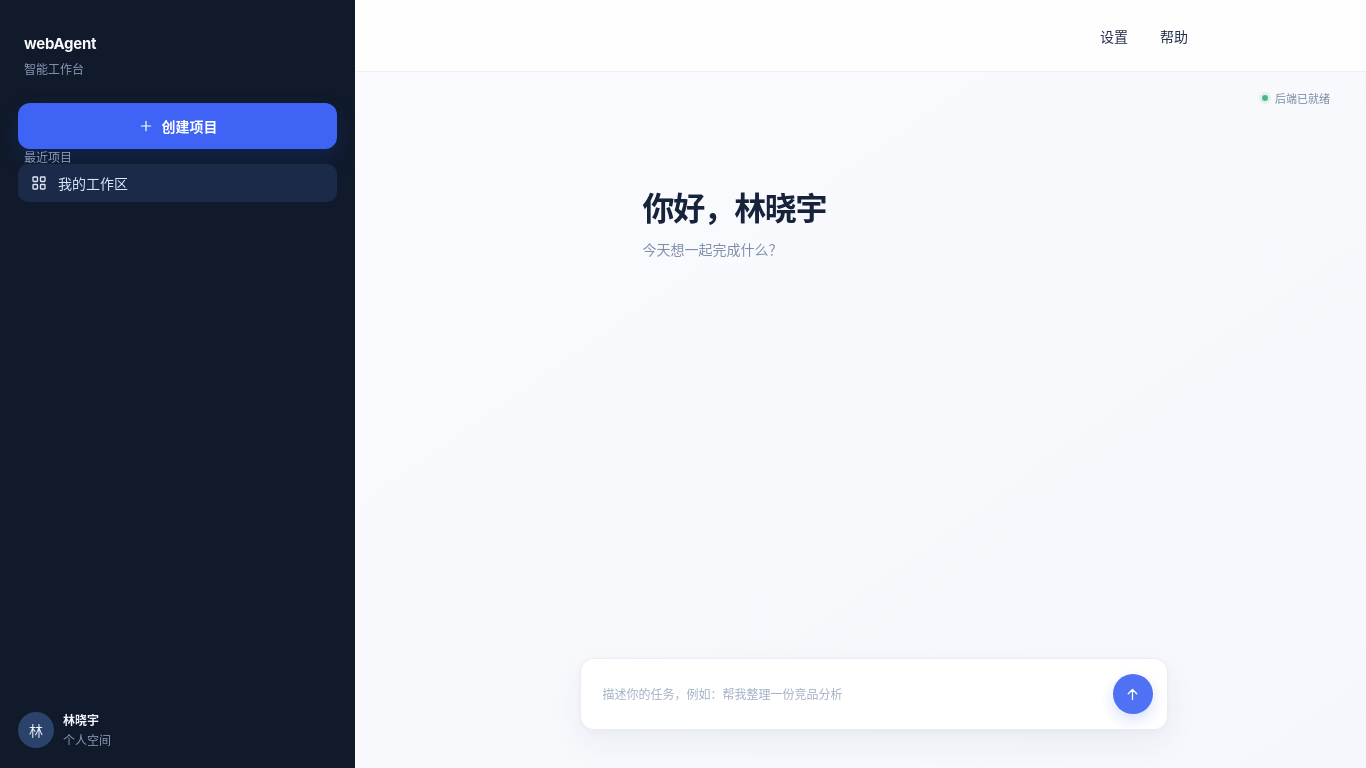
Test: 账户设置 › 保存请求未进入网络层时显示底层错误
Click the button with aria-label "打开账户设置". click: (36, 730)
box: [18,703,337,748]
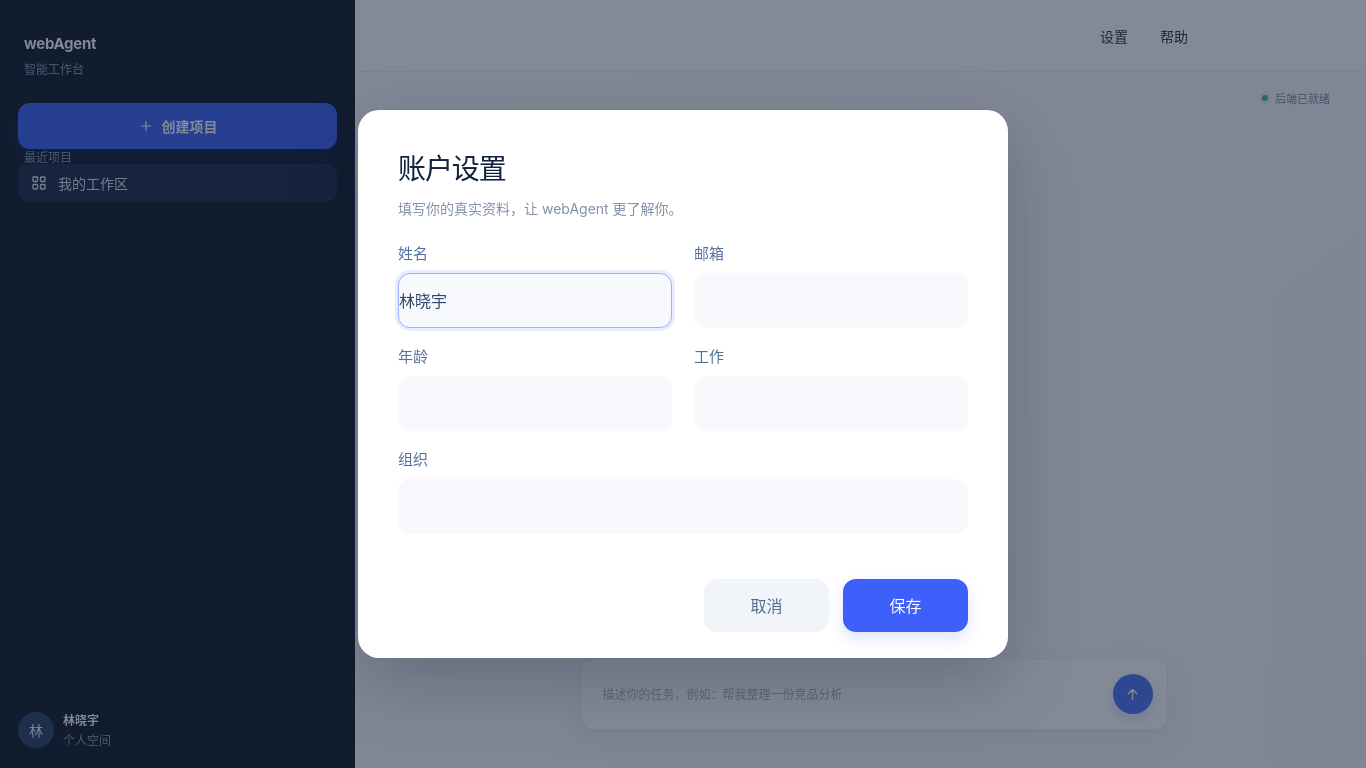
Click the button "保存". click: (906, 605)
box: [843,579,968,632]
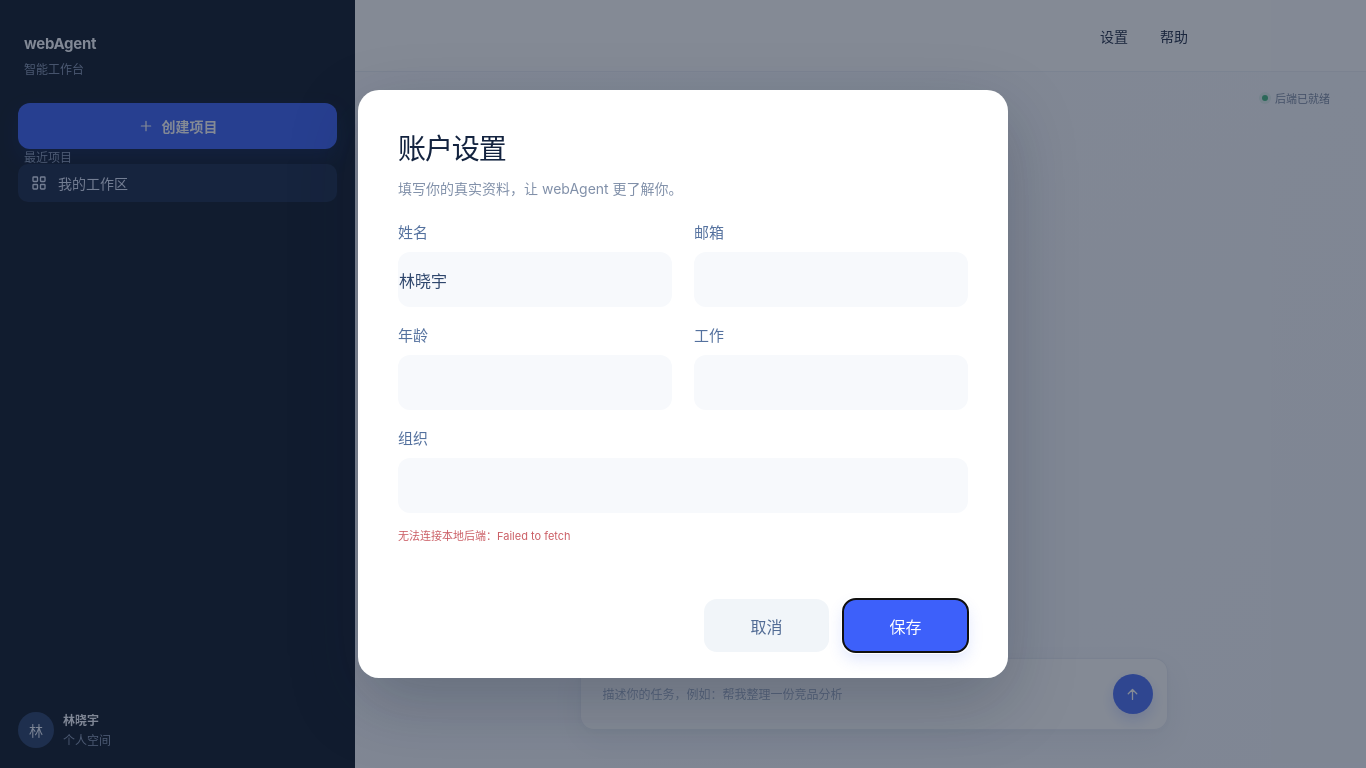
Expected: the message reads "无法连接本地后端：Failed to fetch", [398,529,571,543]
